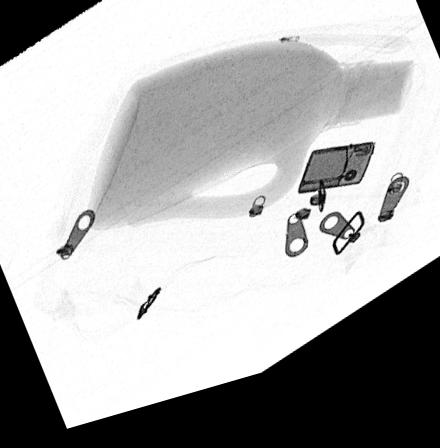Lighter: (299, 161, 377, 210)
